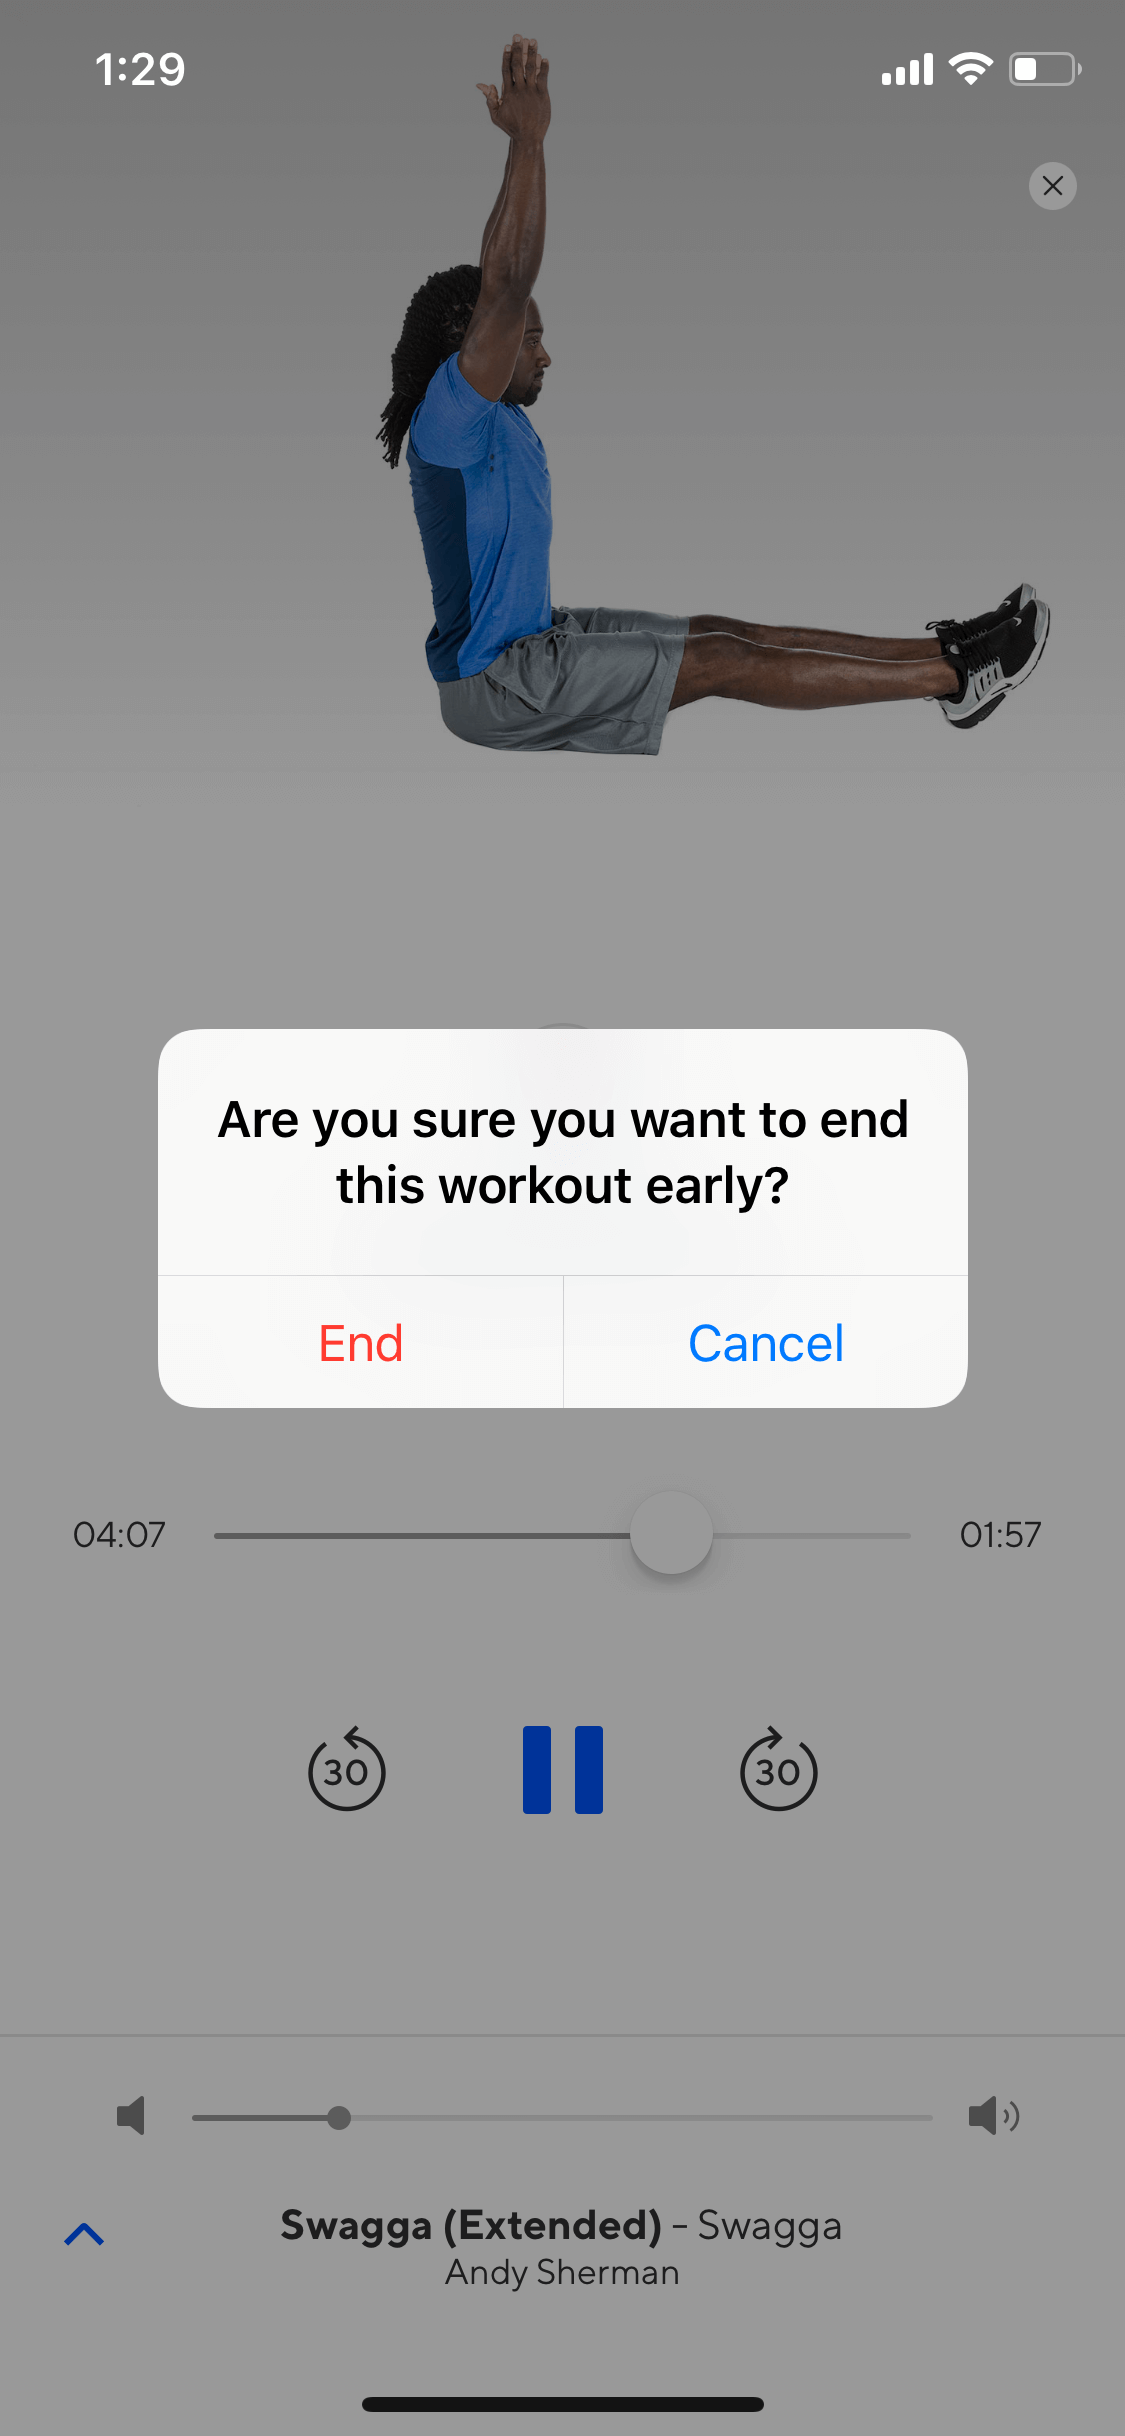Buttons: (472, 1689, 645, 1830), (702, 1690, 848, 1830), (284, 1689, 413, 1830), (998, 127, 1103, 231), (30, 2184, 131, 2279)
Sliders: (53, 1457, 1088, 1592), (81, 2041, 1057, 2170)
